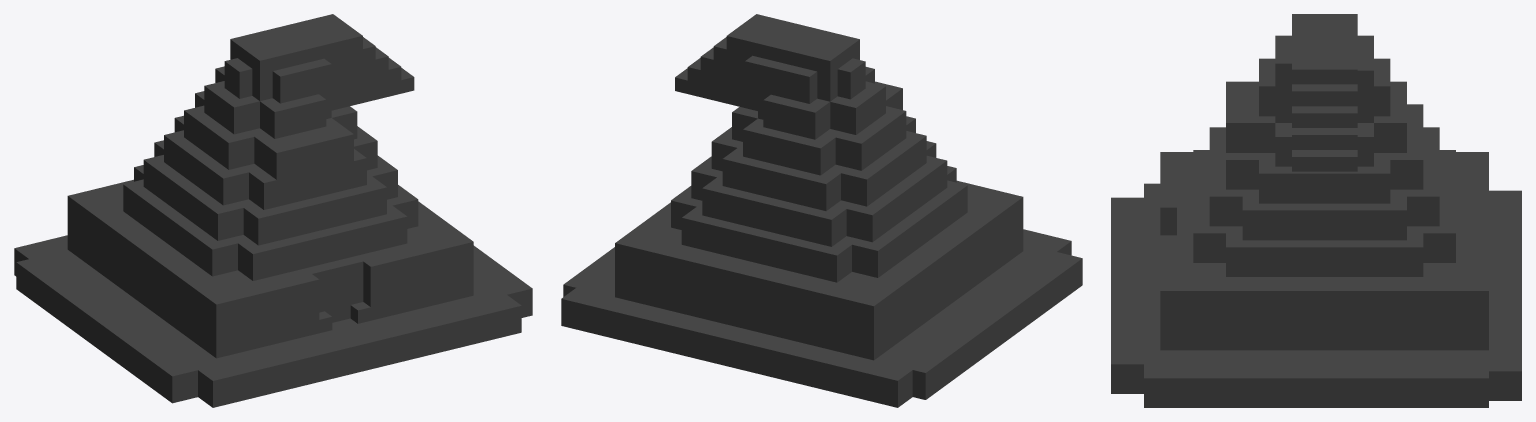
3 views of the same model, side by side, from view 1: azimuth 30°, elevation 25°; view 2: azimuth 150°, elevation 25°; view 3: azimuth 270°, elevation 25° (orthographic). The views are drawn at different scales.
Parts seen in each view (by area): view 1: 101; view 2: 101; view 3: 101.
Boxes of the visible parts, x1,y1,x2,y2 form: 101: (14, 14, 532, 407); 101: (561, 14, 1082, 407); 101: (1111, 14, 1521, 407).
Size of the model in its own units: 280 by 190 by 250.
1 material, 1 textured.
